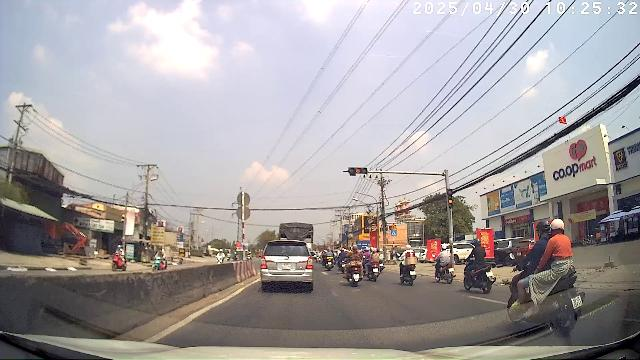423a-duong-nguoi-di-bo-sang-ngang-1: (391, 230, 397, 236)
